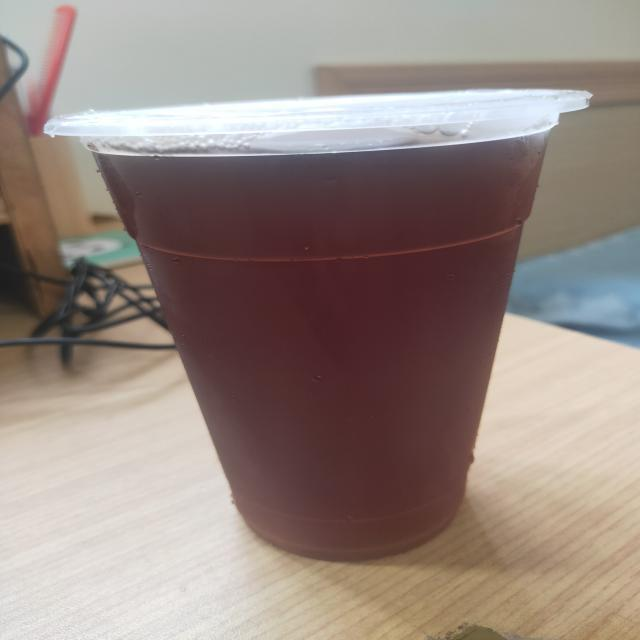ZaoTsan_BlackTea: (37, 90, 615, 562)
